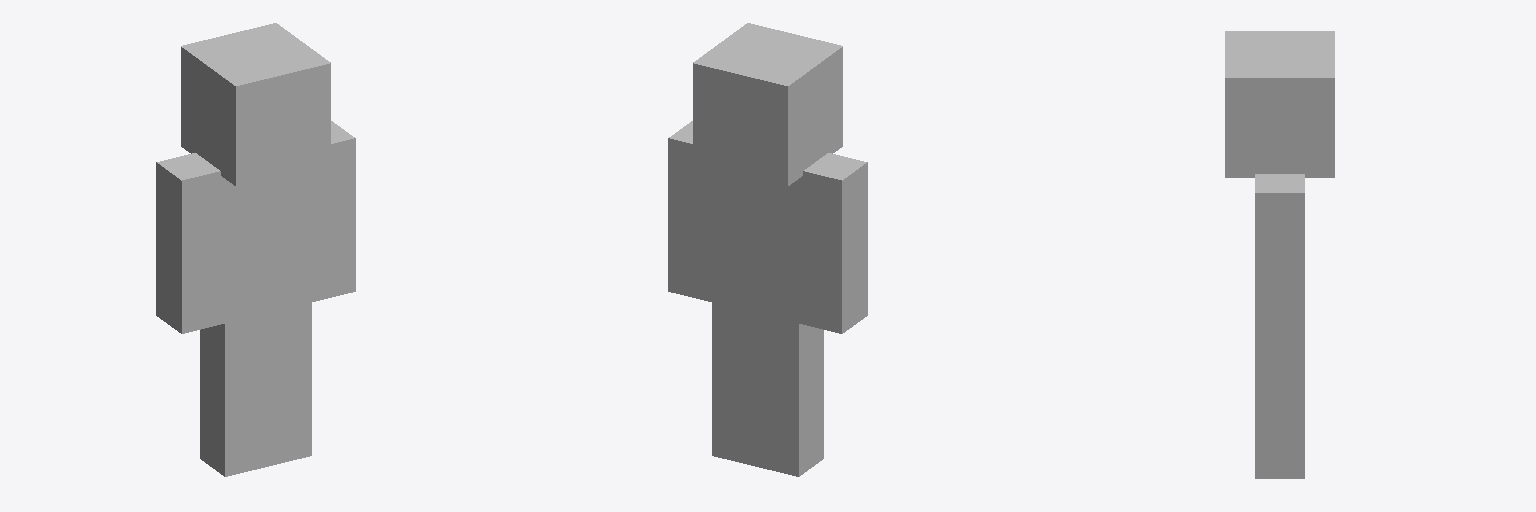
Rendered from vl_cosmetics_body.obj.
The picture shows the model from 3 angles: view 1: azimuth 30°, elevation 25°; view 2: azimuth 150°, elevation 25°; view 3: azimuth 270°, elevation 25°; orthographic projection.
Visible parts, largest first — view 1: BodyPreview_Cube.015, Body_Cube.016; view 2: BodyPreview_Cube.015, Body_Cube.016; view 3: BodyPreview_Cube.015.
Boxes of the visible parts, x1=… form: BodyPreview_Cube.015: x1=156, y1=23, x2=355, y2=476; Body_Cube.016: x1=225, y1=168, x2=311, y2=323; BodyPreview_Cube.015: x1=668, y1=23, x2=867, y2=476; Body_Cube.016: x1=712, y1=168, x2=798, y2=323; BodyPreview_Cube.015: x1=1225, y1=31, x2=1334, y2=478.
Size of the model in its own units: 8 by 17.7 by 4.4.